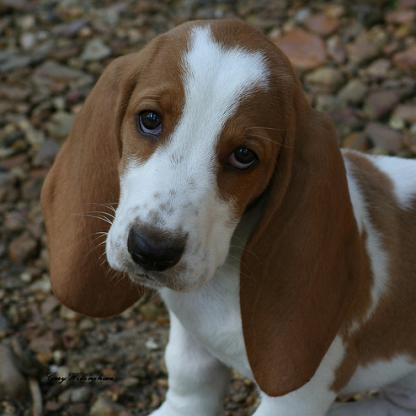dog: (39, 16, 415, 415)
